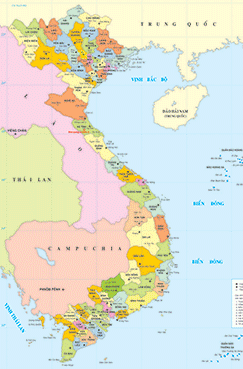Island: (201, 143, 243, 194), (199, 331, 243, 366)
